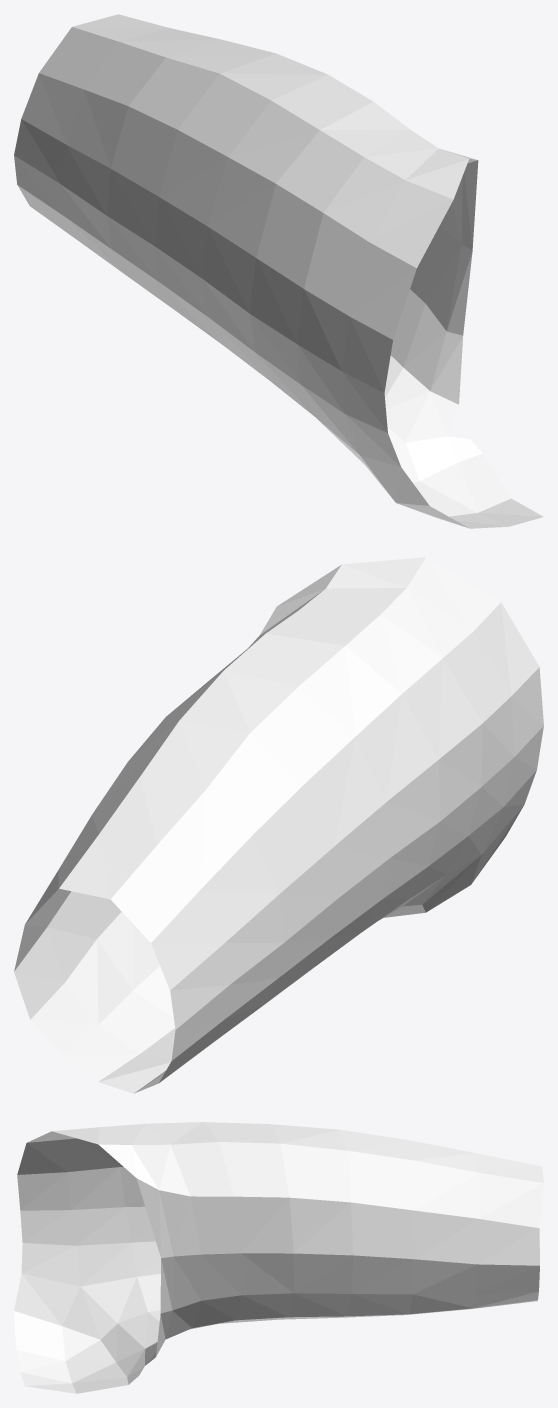
Rendered from l_upperleg.dae.
The picture shows the model from 3 angles, top to bottom: view 1: azimuth 30°, elevation 25°; view 2: azimuth 150°, elevation 25°; view 3: azimuth 270°, elevation 25°; orthographic projection. The views are drawn at different scales.
Parts seen in each view (by area): view 1: node; view 2: node; view 3: node.
Boxes of the visible parts, <box> form: node: <box>14,14,543,528</box>; node: <box>14,557,543,1093</box>; node: <box>14,1122,543,1393</box>.
Bounding box in the file's own units: 0.1453 × 0.2303 × 0.4565.
1 material, 1 textured.
